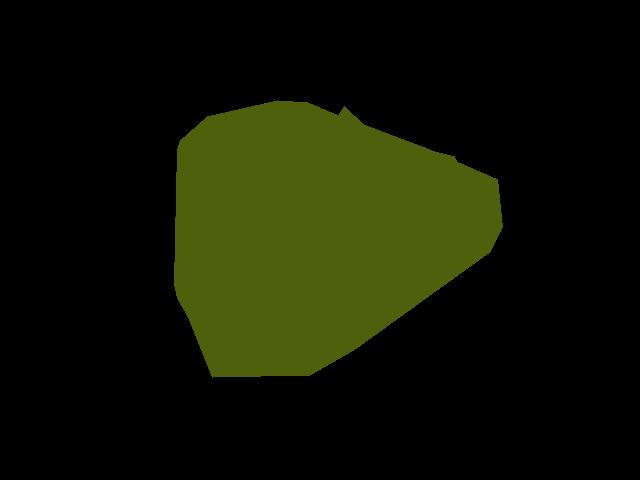Train: (174, 100, 502, 377)
